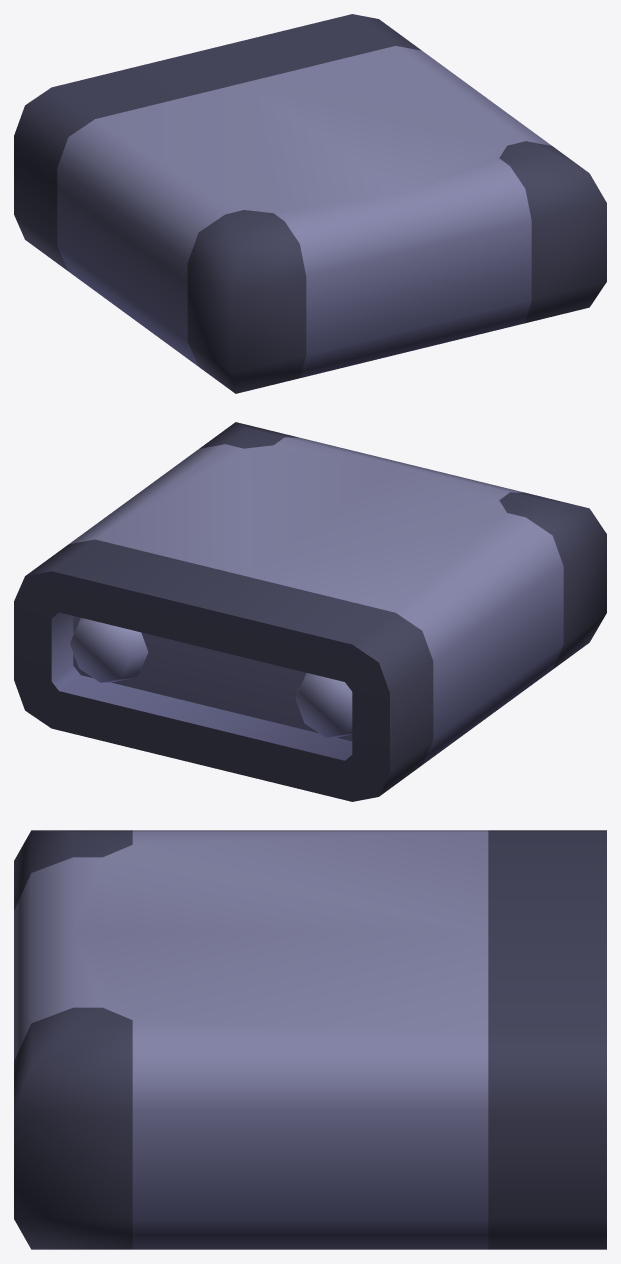
File: kenney-factory-conveyor-stripe-junction-t.glb
3 views of the same model, one above another, from view 1: azimuth 30°, elevation 25°; view 2: azimuth 150°, elevation 25°; view 3: azimuth 270°, elevation 25° (orthographic). The views are drawn at different scales.
Parts seen in each view (by area): view 1: conveyor-stripe-junction-t; view 2: conveyor-stripe-junction-t; view 3: conveyor-stripe-junction-t.
Part boxes in pixels (x1,y1,x2,y2): conveyor-stripe-junction-t: [14, 14, 606, 393]; conveyor-stripe-junction-t: [14, 422, 606, 801]; conveyor-stripe-junction-t: [14, 830, 606, 1249].
Bounding box in the file's own units: 1.5 × 0.6 × 1.5.
1 material, 1 textured.
